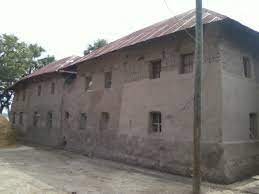Mud House: (13, 10, 254, 184)
